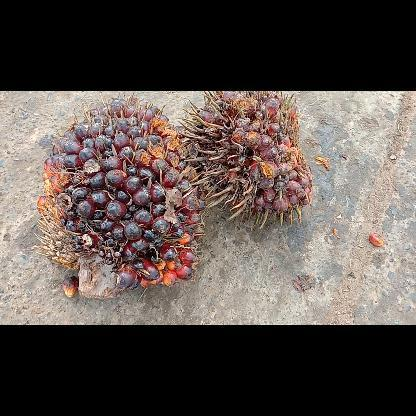Kurang masak: (32, 90, 206, 298)
TBS masak: (178, 90, 312, 228)
